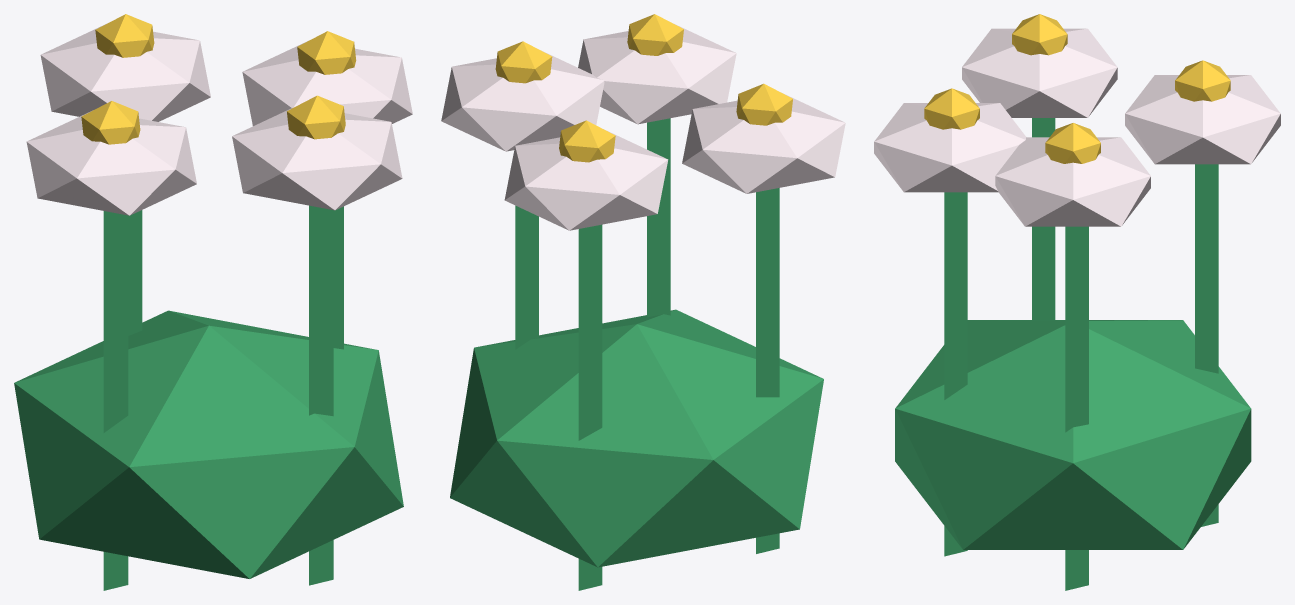
Rendered from flower_white.glb.
3 renders of one model, left to right at view 1: azimuth 30°, elevation 25°; view 2: azimuth 150°, elevation 25°; view 3: azimuth 270°, elevation 25°, orthographic. The views are drawn at different scales.
Visible parts, largest first — view 1: flower_white; view 2: flower_white; view 3: flower_white.
Part boxes in pixels (box(x1,y1,x2,y2)): flower_white: box(14, 14, 412, 590); flower_white: box(441, 14, 845, 590); flower_white: box(874, 14, 1280, 590).
Bounding box in the file's own units: 0.3219 × 0.406 × 0.3108.
